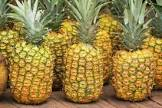Pineapple: (8, 1, 54, 105), (112, 1, 155, 101), (64, 1, 104, 103)
